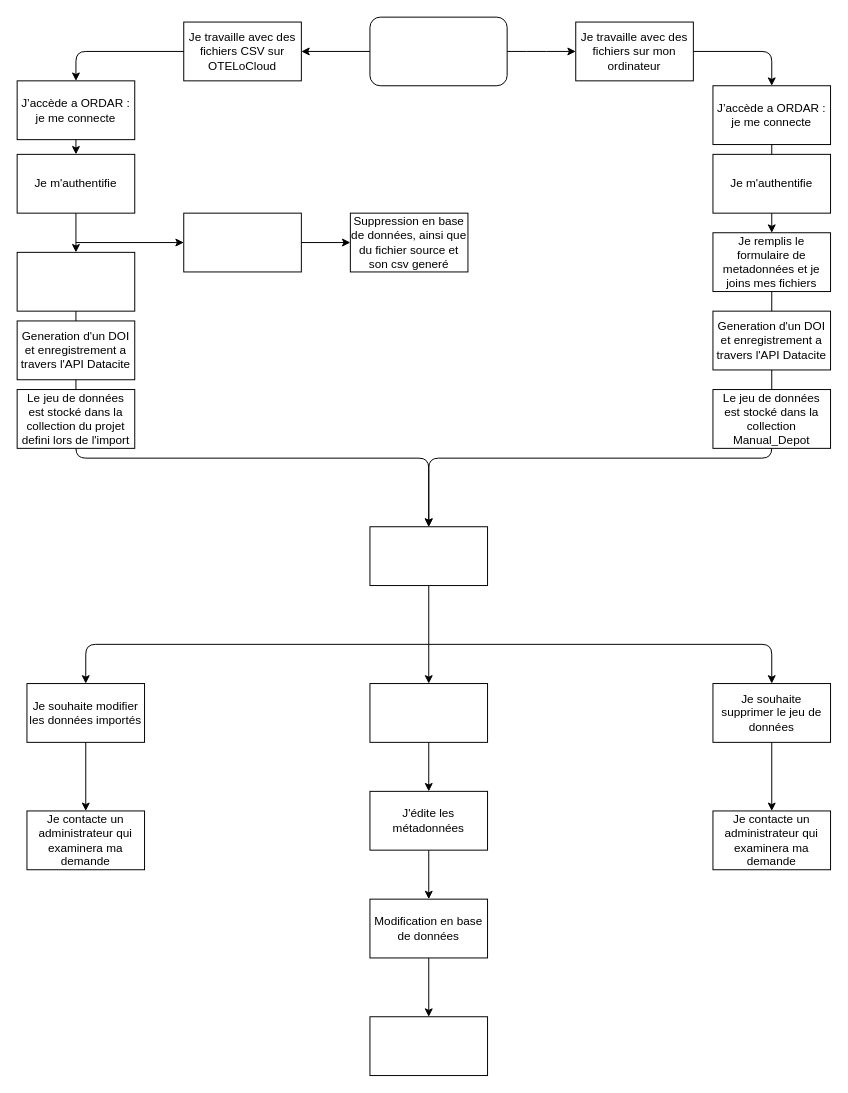
The diagram is 848 pixels wide and 1093 high, and some of its shapes have lost their labels. Here are the shapes that lost their labels. From the top down, the centre of each, then its label:
At point 438,51: "Utilisateurs OTELO".
At point 242,242: "Je peut supprimer mon jeu de données si celui ci a un statut non publié".
At point 75,281: "Je choisi le droit d'accées au jeu de données, et sa licence".
At point 428,556: "Mon jeu de données est publié".
At point 428,712: "Je veut modifier les métadonnées".
At point 428,1046: "Mise à jour des metadonnées a travers l'api datacite".
